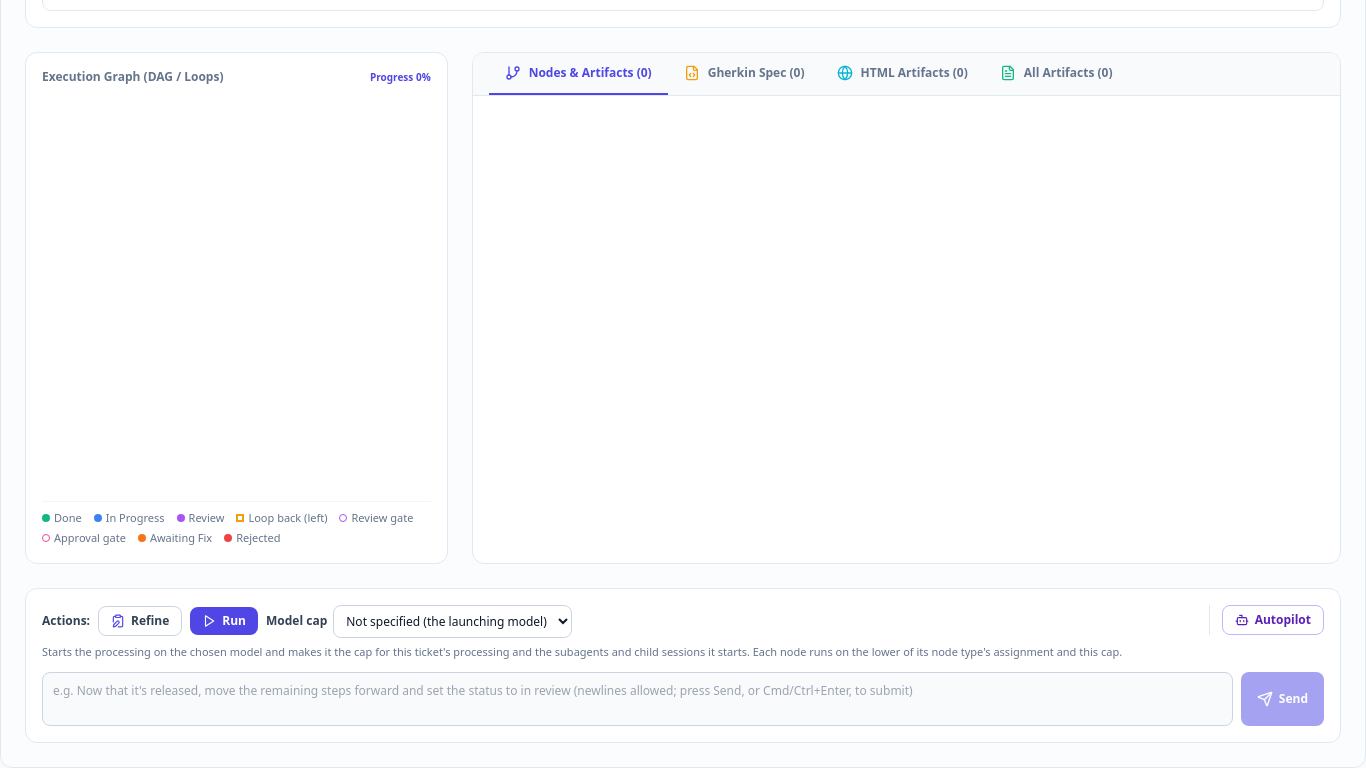
Test case: TicketItem prompt row layout (en) › keeps the Send button disabled until text is typed
(page scrolled)
Expected: the button "Send" is disabled, top-left (1241, 672), bottom-right (1324, 726)
Replace the text in the text box named "Prompt for Claude" with "続きを進めて" at (637, 699), box top-left (42, 672), bottom-right (1233, 726)
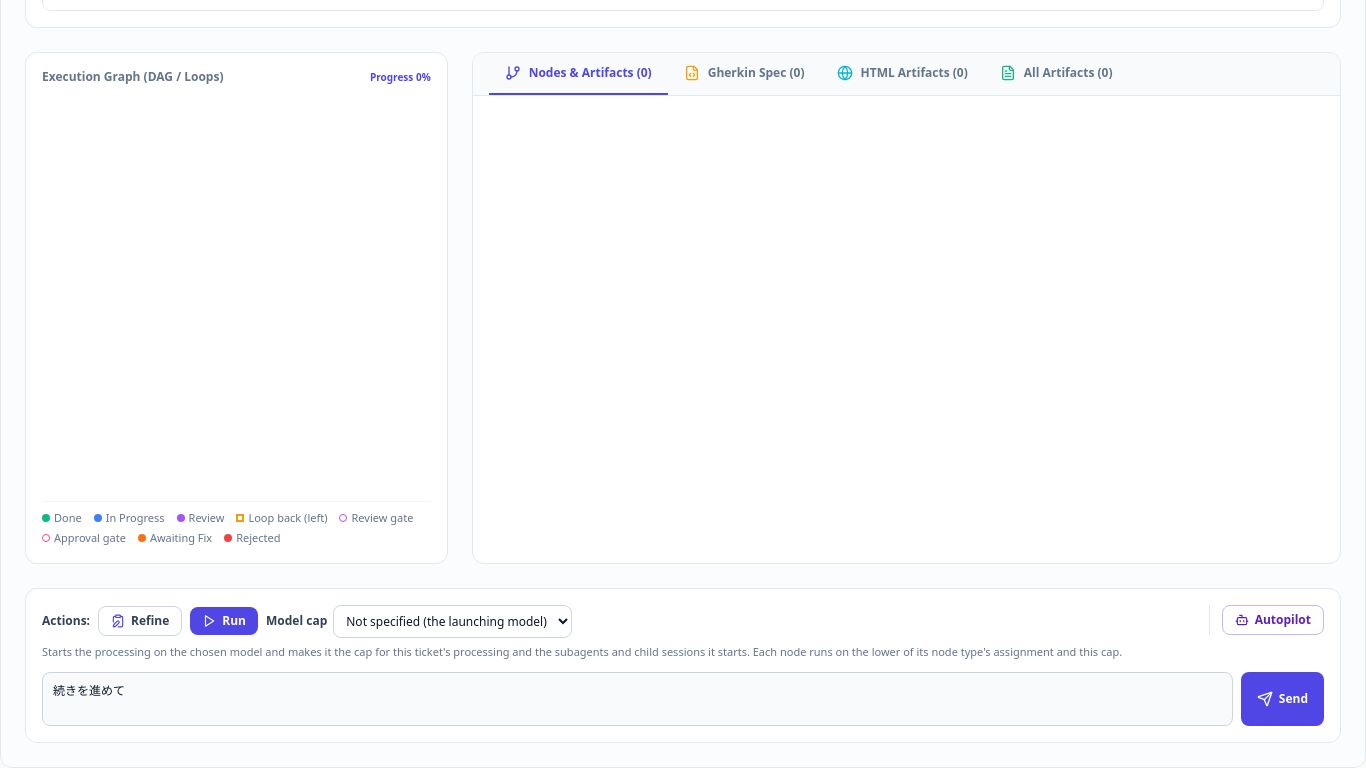
Result: the button "Send" is enabled at top-left (1241, 672), bottom-right (1324, 726)
